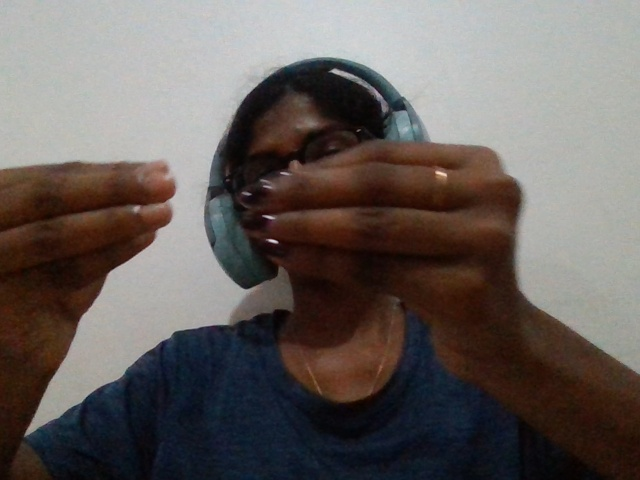More: (2, 132, 564, 439)
